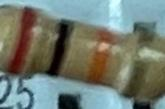Black: (45, 18, 74, 80)
Orange: (82, 24, 114, 86)
Red: (7, 7, 42, 77)
Side-Silver: (121, 31, 156, 100)
